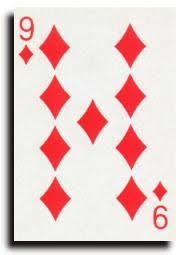nine of diamonds: (14, 8, 176, 240)
